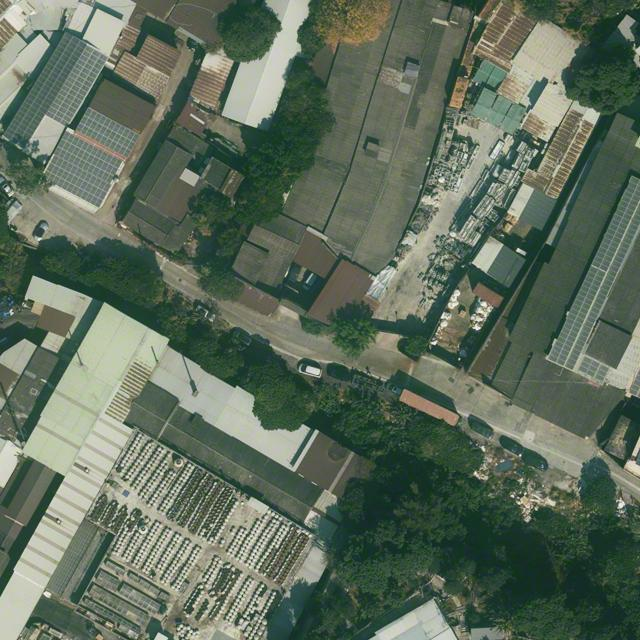panel: (564, 227, 638, 371), (2, 32, 88, 151), (548, 265, 606, 366), (46, 44, 110, 128), (42, 155, 111, 208), (53, 133, 123, 185), (592, 196, 639, 272), (76, 107, 140, 158), (578, 357, 610, 384)
